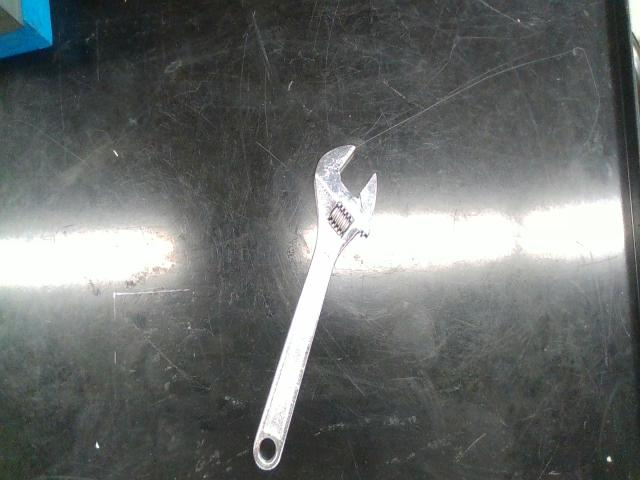Adjustable spanner: (254, 145, 376, 470)
